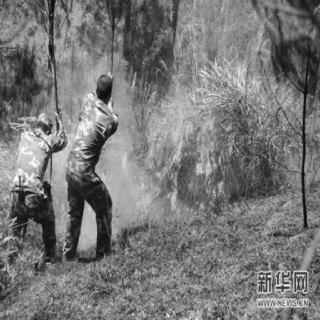Fire: (131, 92, 253, 212)
